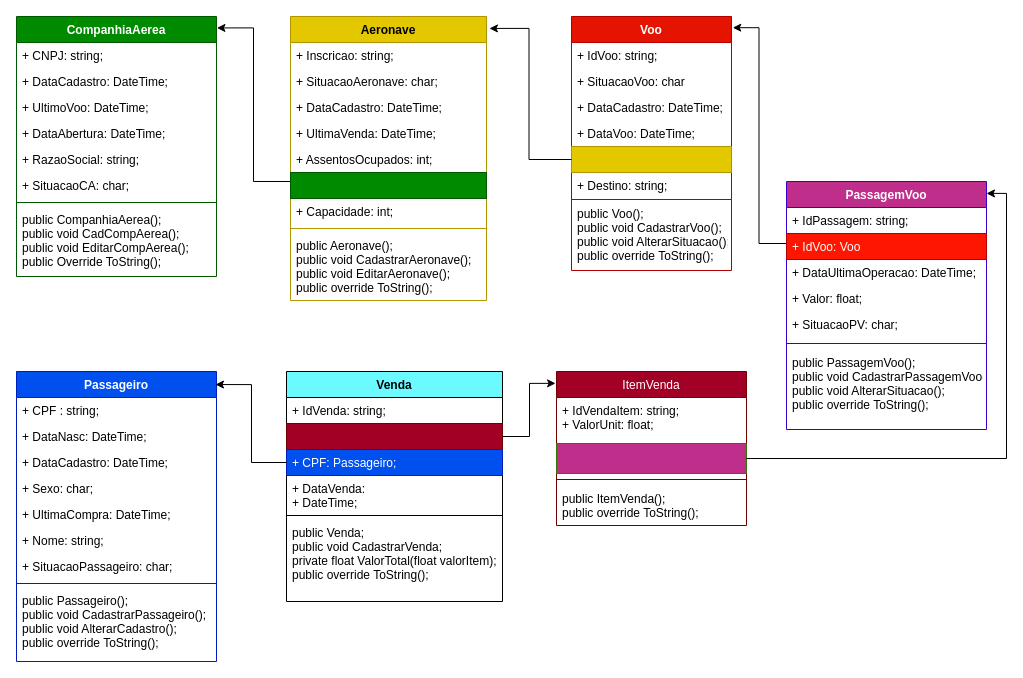
Image size: 1023x678. Some labels were removed from this diagram. Each missing label, with the centre of its shape:
"+ IdPassagem: PassagemVoo;" belongs at pixel 651 458.
"+ Inscricao: Aeronave;" belongs at pixel 651 159.
"+ ValorTotal: float;" belongs at pixel 394 436.
"CompAerea: CompAerea" belongs at pixel 388 185.
